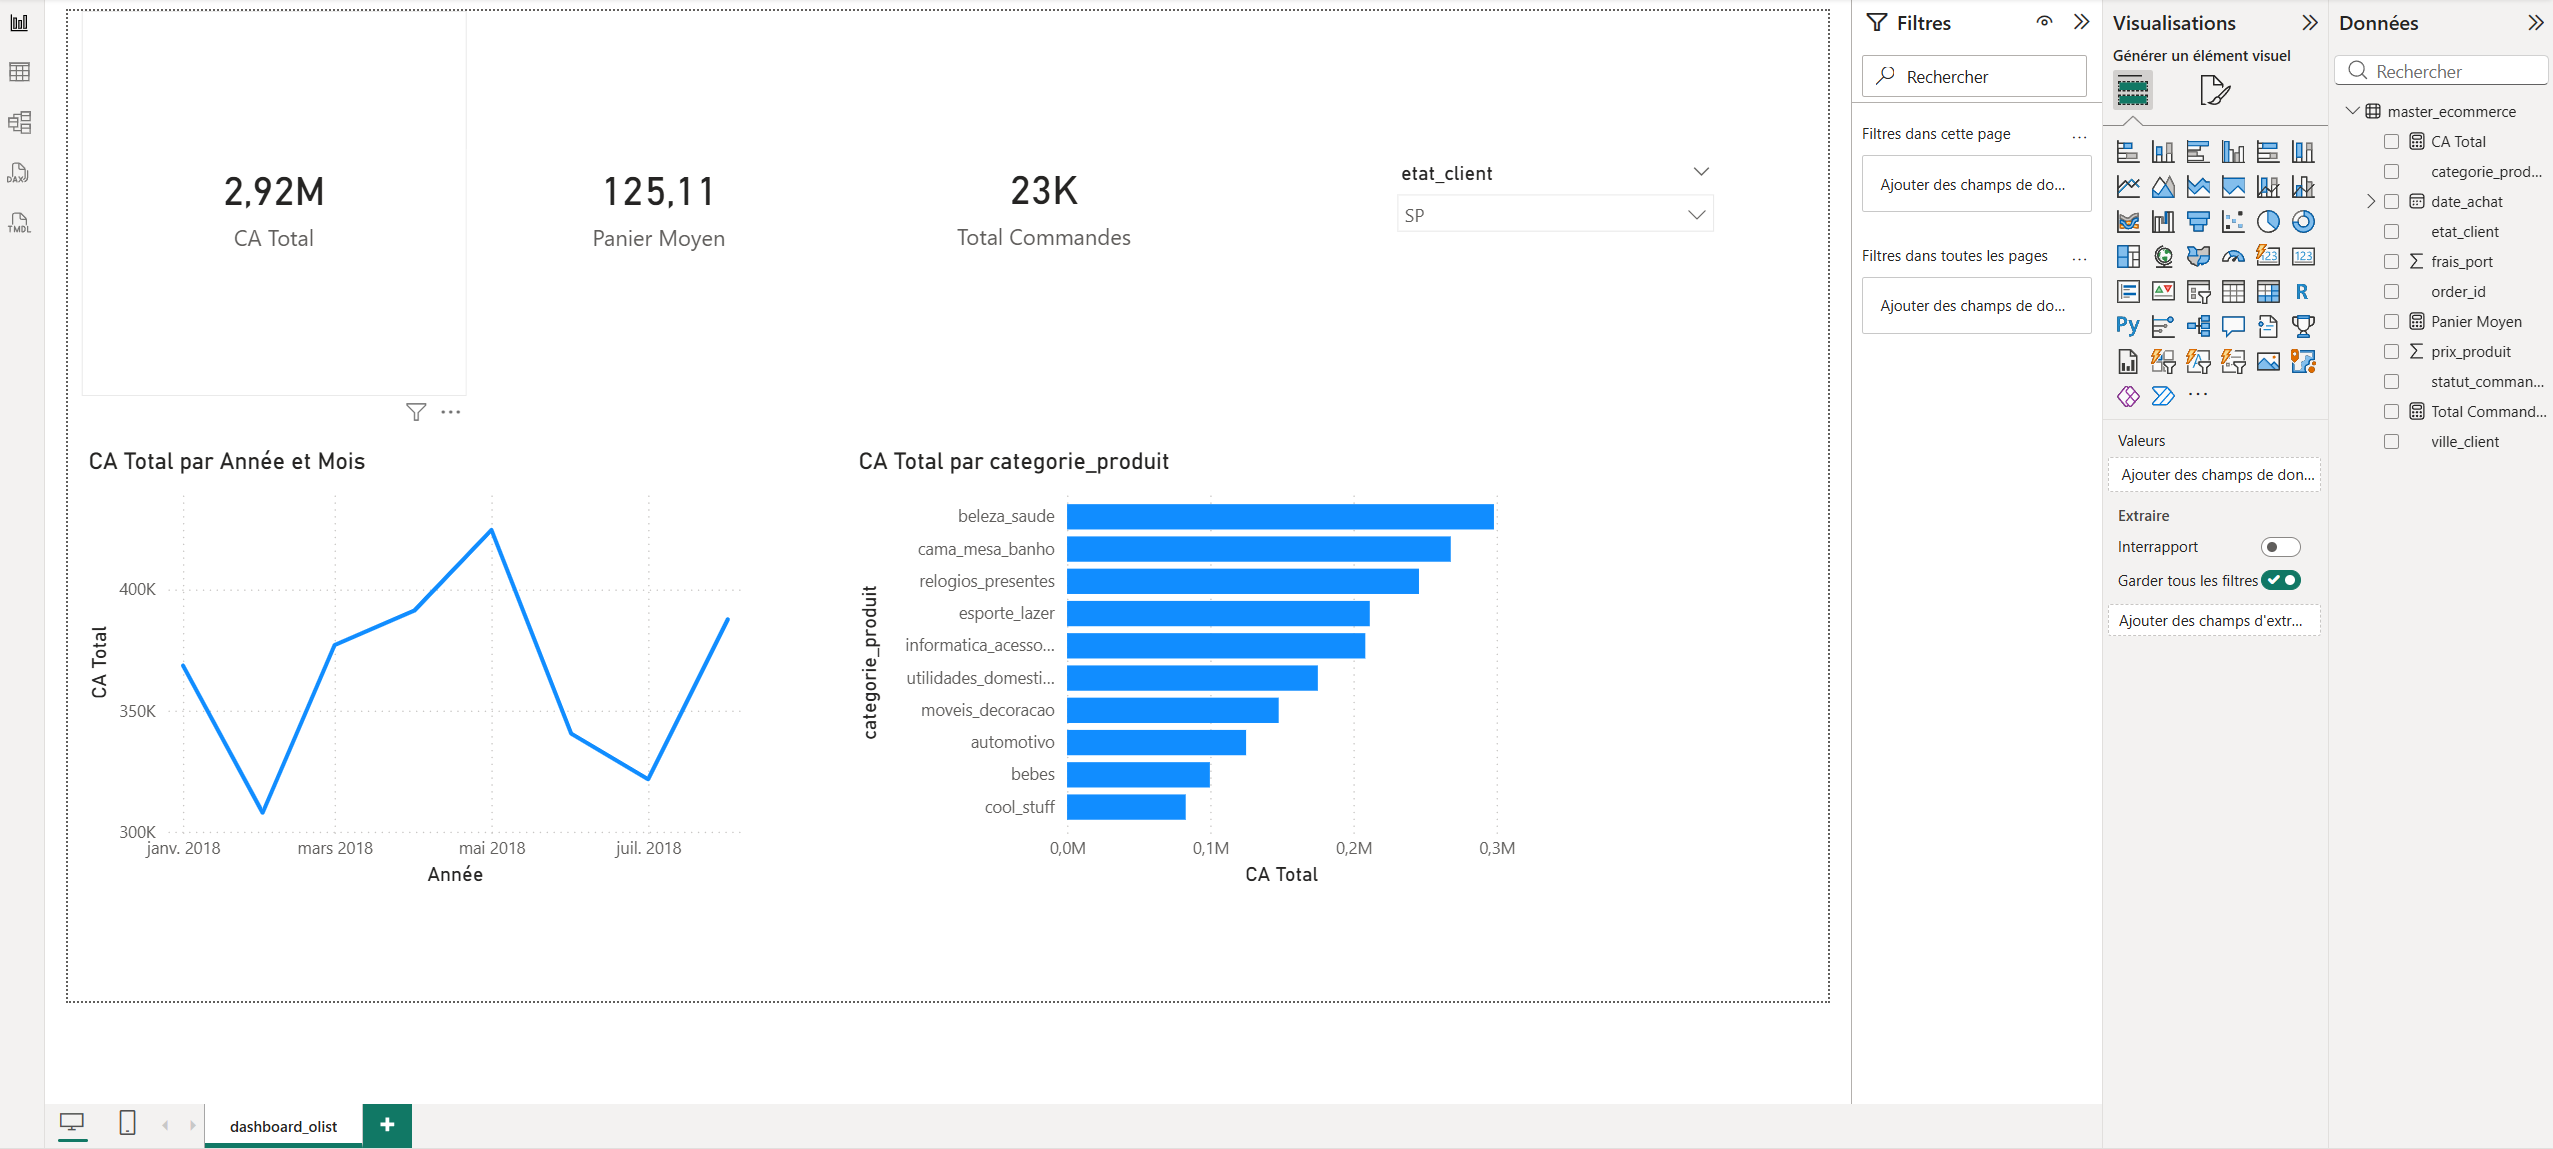

This screenshot's page, from the dashboard's own definition file:
{"tool":"powerbi","page":{"name":"dashboard_olist","canvas":[1280,720],"ordinal":0},"visuals":[{"type":"card","fields":{"Values":["master_ecommerce.CA Total"]},"box":[10,0,280,280],"z":0},{"type":"card","fields":{"Values":["master_ecommerce.Panier Moyen"]},"box":[290,0,280,280],"z":1},{"type":"card","fields":{"Values":["master_ecommerce.Total Commandes"]},"box":[570,64.5,280,150],"z":2},{"type":"lineChart","fields":{"Y":["master_ecommerce.CA Total"],"Category":["master_ecommerce.date_achat.Variation.Hiérarchie de dates.Année","master_ecommerce.date_achat.Variation.Hiérarchie de dates.Mois"]},"box":[10,317.3,499.1,323.6],"z":3},{"type":"clusteredBarChart","fields":{"Category":["master_ecommerce.categorie_produit"],"Y":["master_ecommerce.CA Total"]},"box":[570,317.3,488.2,323.6],"z":4},{"type":"slicer","fields":{"Values":["master_ecommerce.etat_client"]},"box":[956.4,104.5,250.9,150],"z":5}]}

Visuals, with their boxes on the page's 1280x720 design canvas (x1, y1, x2, y2). These are canvas units, not pixel positions in the 2553x1149 screenshot, which may show the page scaled, cropped or inside an application window:
card - master_ecommerce.CA Total: 10 0 290 280
card - master_ecommerce.Panier Moyen: 290 0 570 280
card - master_ecommerce.Total Commandes: 570 64 850 214
lineChart - master_ecommerce.CA Total x master_ecommerce.date_achat.Variation.Hiérarchie de dates.Année: 10 317 509 641
clusteredBarChart - master_ecommerce.categorie_produit x master_ecommerce.CA Total: 570 317 1058 641
slicer - master_ecommerce.etat_client: 956 104 1207 254
